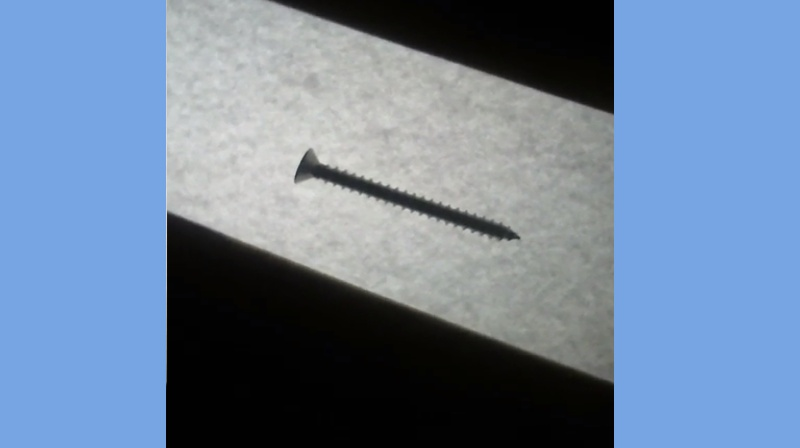S002: (291, 143, 523, 242)
